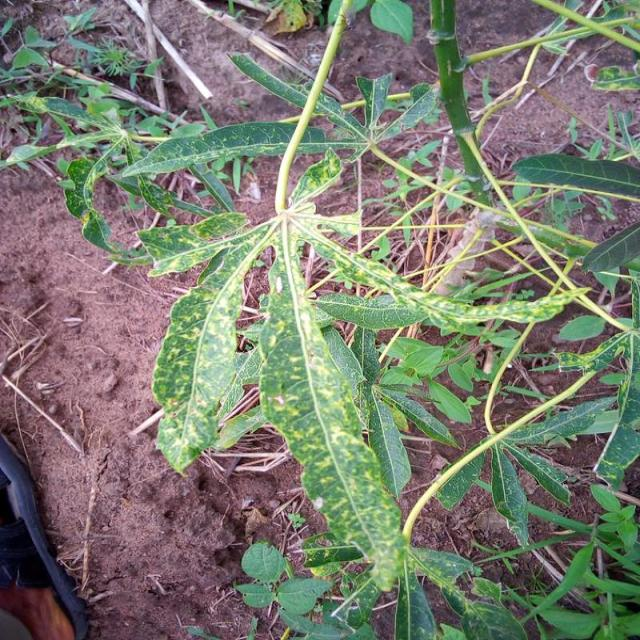cassava leaf: (255, 229, 407, 591)
